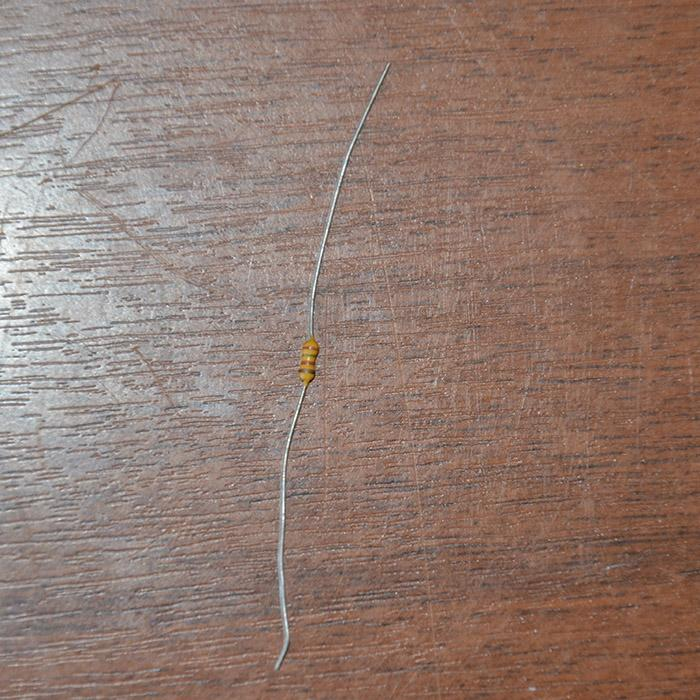resistor: (298, 334, 321, 386)
